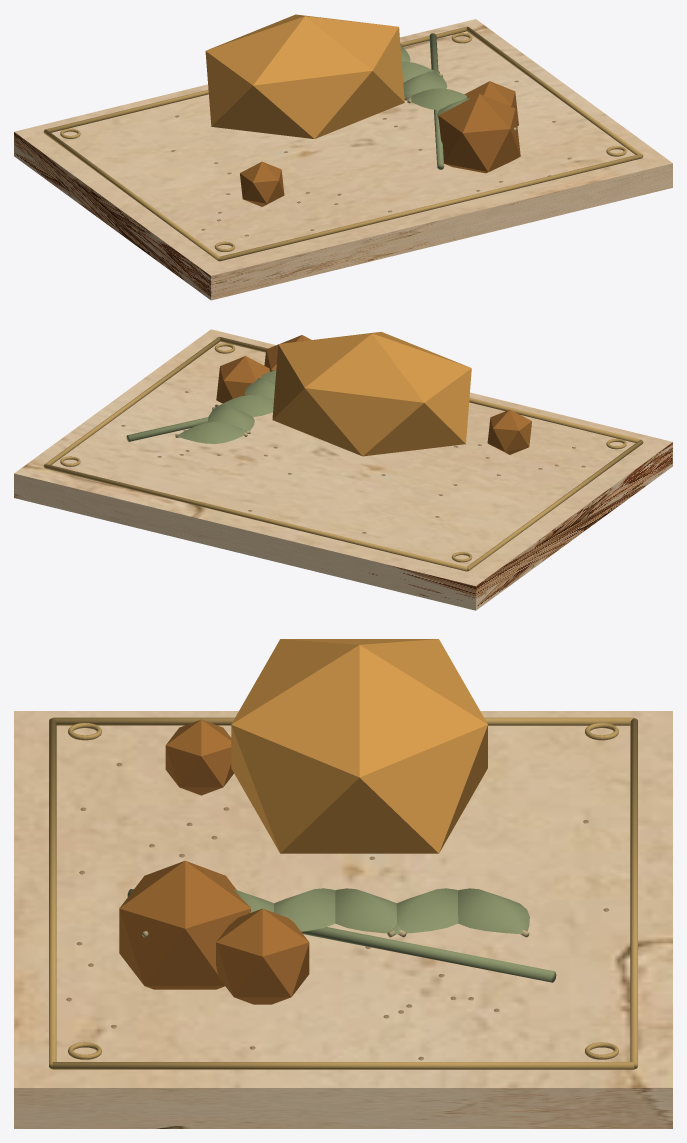
Rendered from soulmate-amber.glb.
3 views of the same model, one above another, from view 1: azimuth 30°, elevation 25°; view 2: azimuth 150°, elevation 25°; view 3: azimuth 270°, elevation 25° (orthographic). The views are drawn at different scales.
Visible parts, largest first — view 1: Handmade parchment card, Faceted amber, Icosphere, Gilt border.002, Icosphere.002, Gilt border.003, Gilt border, Gilt border.001, Layered olive leaf.002, Icosphere.001, Layered olive leaf.003, Botanical branch; view 2: Handmade parchment card, Faceted amber, Gilt border.003, Icosphere.002, Icosphere.001, Gilt border.002, Gilt border, Gilt border.001, Layered olive leaf.005, Layered olive leaf.003, Layered olive leaf.004, Botanical branch (+1 smaller); view 3: Handmade parchment card, Faceted amber, Icosphere, Icosphere.001, Gilt border.001, Icosphere.002, Botanical branch, Gilt border.003, Gilt border.002, Gilt border, Layered olive leaf.005, Layered olive leaf.003 (+2 smaller).
Part boxes in pixels (x1,y1,x2,y2): Handmade parchment card: [14, 19, 672, 300]; Faceted amber: [205, 14, 404, 138]; Icosphere: [438, 94, 520, 173]; Gilt border.002: [219, 154, 642, 261]; Icosphere.002: [240, 161, 284, 206]; Gilt border.003: [45, 26, 466, 132]; Gilt border: [43, 129, 219, 261]; Gilt border.001: [466, 26, 643, 157]; Layered olive leaf.002: [406, 88, 466, 110]; Icosphere.001: [464, 81, 518, 125]; Layered olive leaf.003: [403, 71, 447, 99]; Botanical branch: [429, 33, 444, 169]; Handmade parchment card: [14, 329, 672, 610]; Faceted amber: [272, 332, 471, 456]; Gilt border.003: [44, 464, 467, 571]; Icosphere.002: [487, 409, 531, 454]; Icosphere.001: [216, 356, 269, 403]; Gilt border.002: [220, 337, 641, 442]; Gilt border: [467, 440, 643, 571]; Gilt border.001: [43, 337, 220, 467]; Layered olive leaf.005: [178, 422, 247, 443]; Layered olive leaf.003: [216, 395, 273, 416]; Layered olive leaf.004: [208, 404, 254, 433]; Botanical branch: [126, 417, 208, 441]; Handmade parchment card: [14, 711, 672, 1128]; Faceted amber: [231, 639, 487, 853]; Icosphere: [119, 860, 250, 989]; Icosphere.001: [216, 908, 309, 1004]; Gilt border.001: [52, 1062, 634, 1069]; Icosphere.002: [165, 719, 233, 795]; Botanical branch: [127, 889, 556, 982]; Gilt border.003: [630, 718, 637, 1069]; Gilt border.002: [49, 718, 56, 1069]; Gilt border: [53, 717, 633, 725]; Layered olive leaf.005: [458, 888, 529, 934]; Layered olive leaf.003: [335, 888, 400, 934].
Bounding box in the file's own units: 2.76 × 0.9165 × 2.04.
7 materials, 1 textured.
